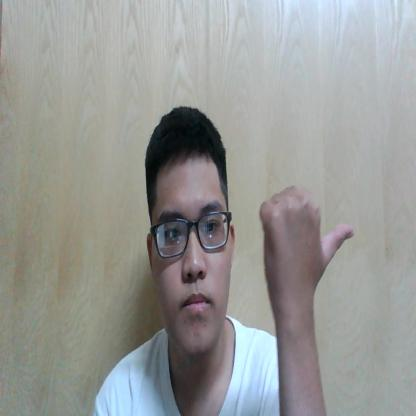left: (257, 180, 353, 300)
